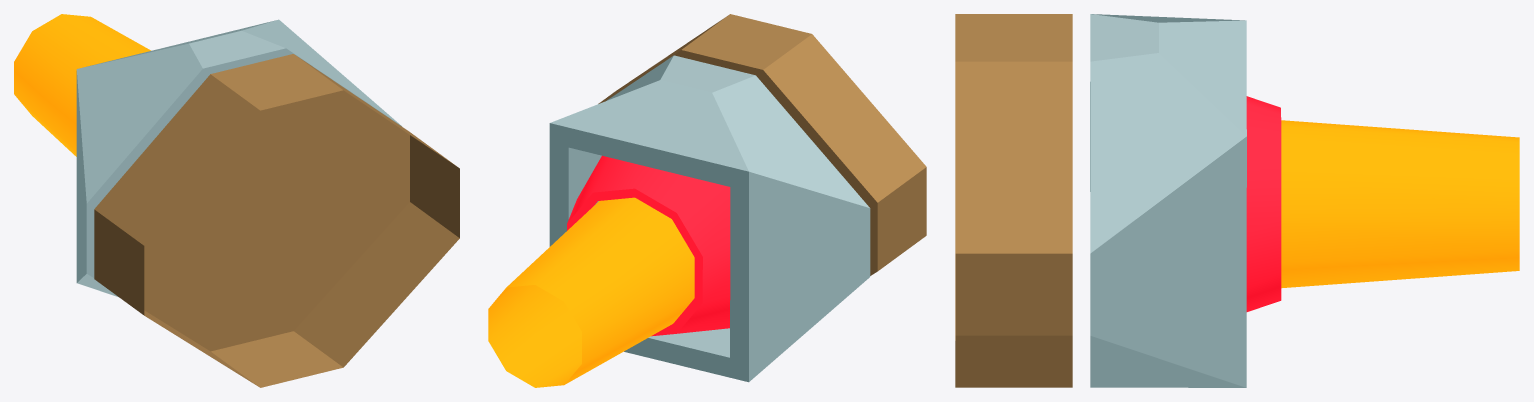
Rendered from teleport.glb.
3 renders of one model, left to right at view 1: azimuth 30°, elevation 25°; view 2: azimuth 150°, elevation 25°; view 3: azimuth 270°, elevation 25°, orthographic. The views are drawn at different scales.
Visible parts, largest first — view 1: Plane.003, boost-part.000; view 2: Plane.003, boost-part.000; view 3: Plane.003, boost-part.000.
Part boxes in pixels (x1,y1,x2,y2): Plane.003: (76, 19, 459, 387); boost-part.000: (14, 14, 150, 156); Plane.003: (549, 14, 926, 382); boost-part.000: (488, 197, 694, 387); Plane.003: (955, 14, 1281, 387); boost-part.000: (1281, 120, 1519, 288).
Size of the model in its own units: 0.1713 by 0.1437 by 0.2256.
